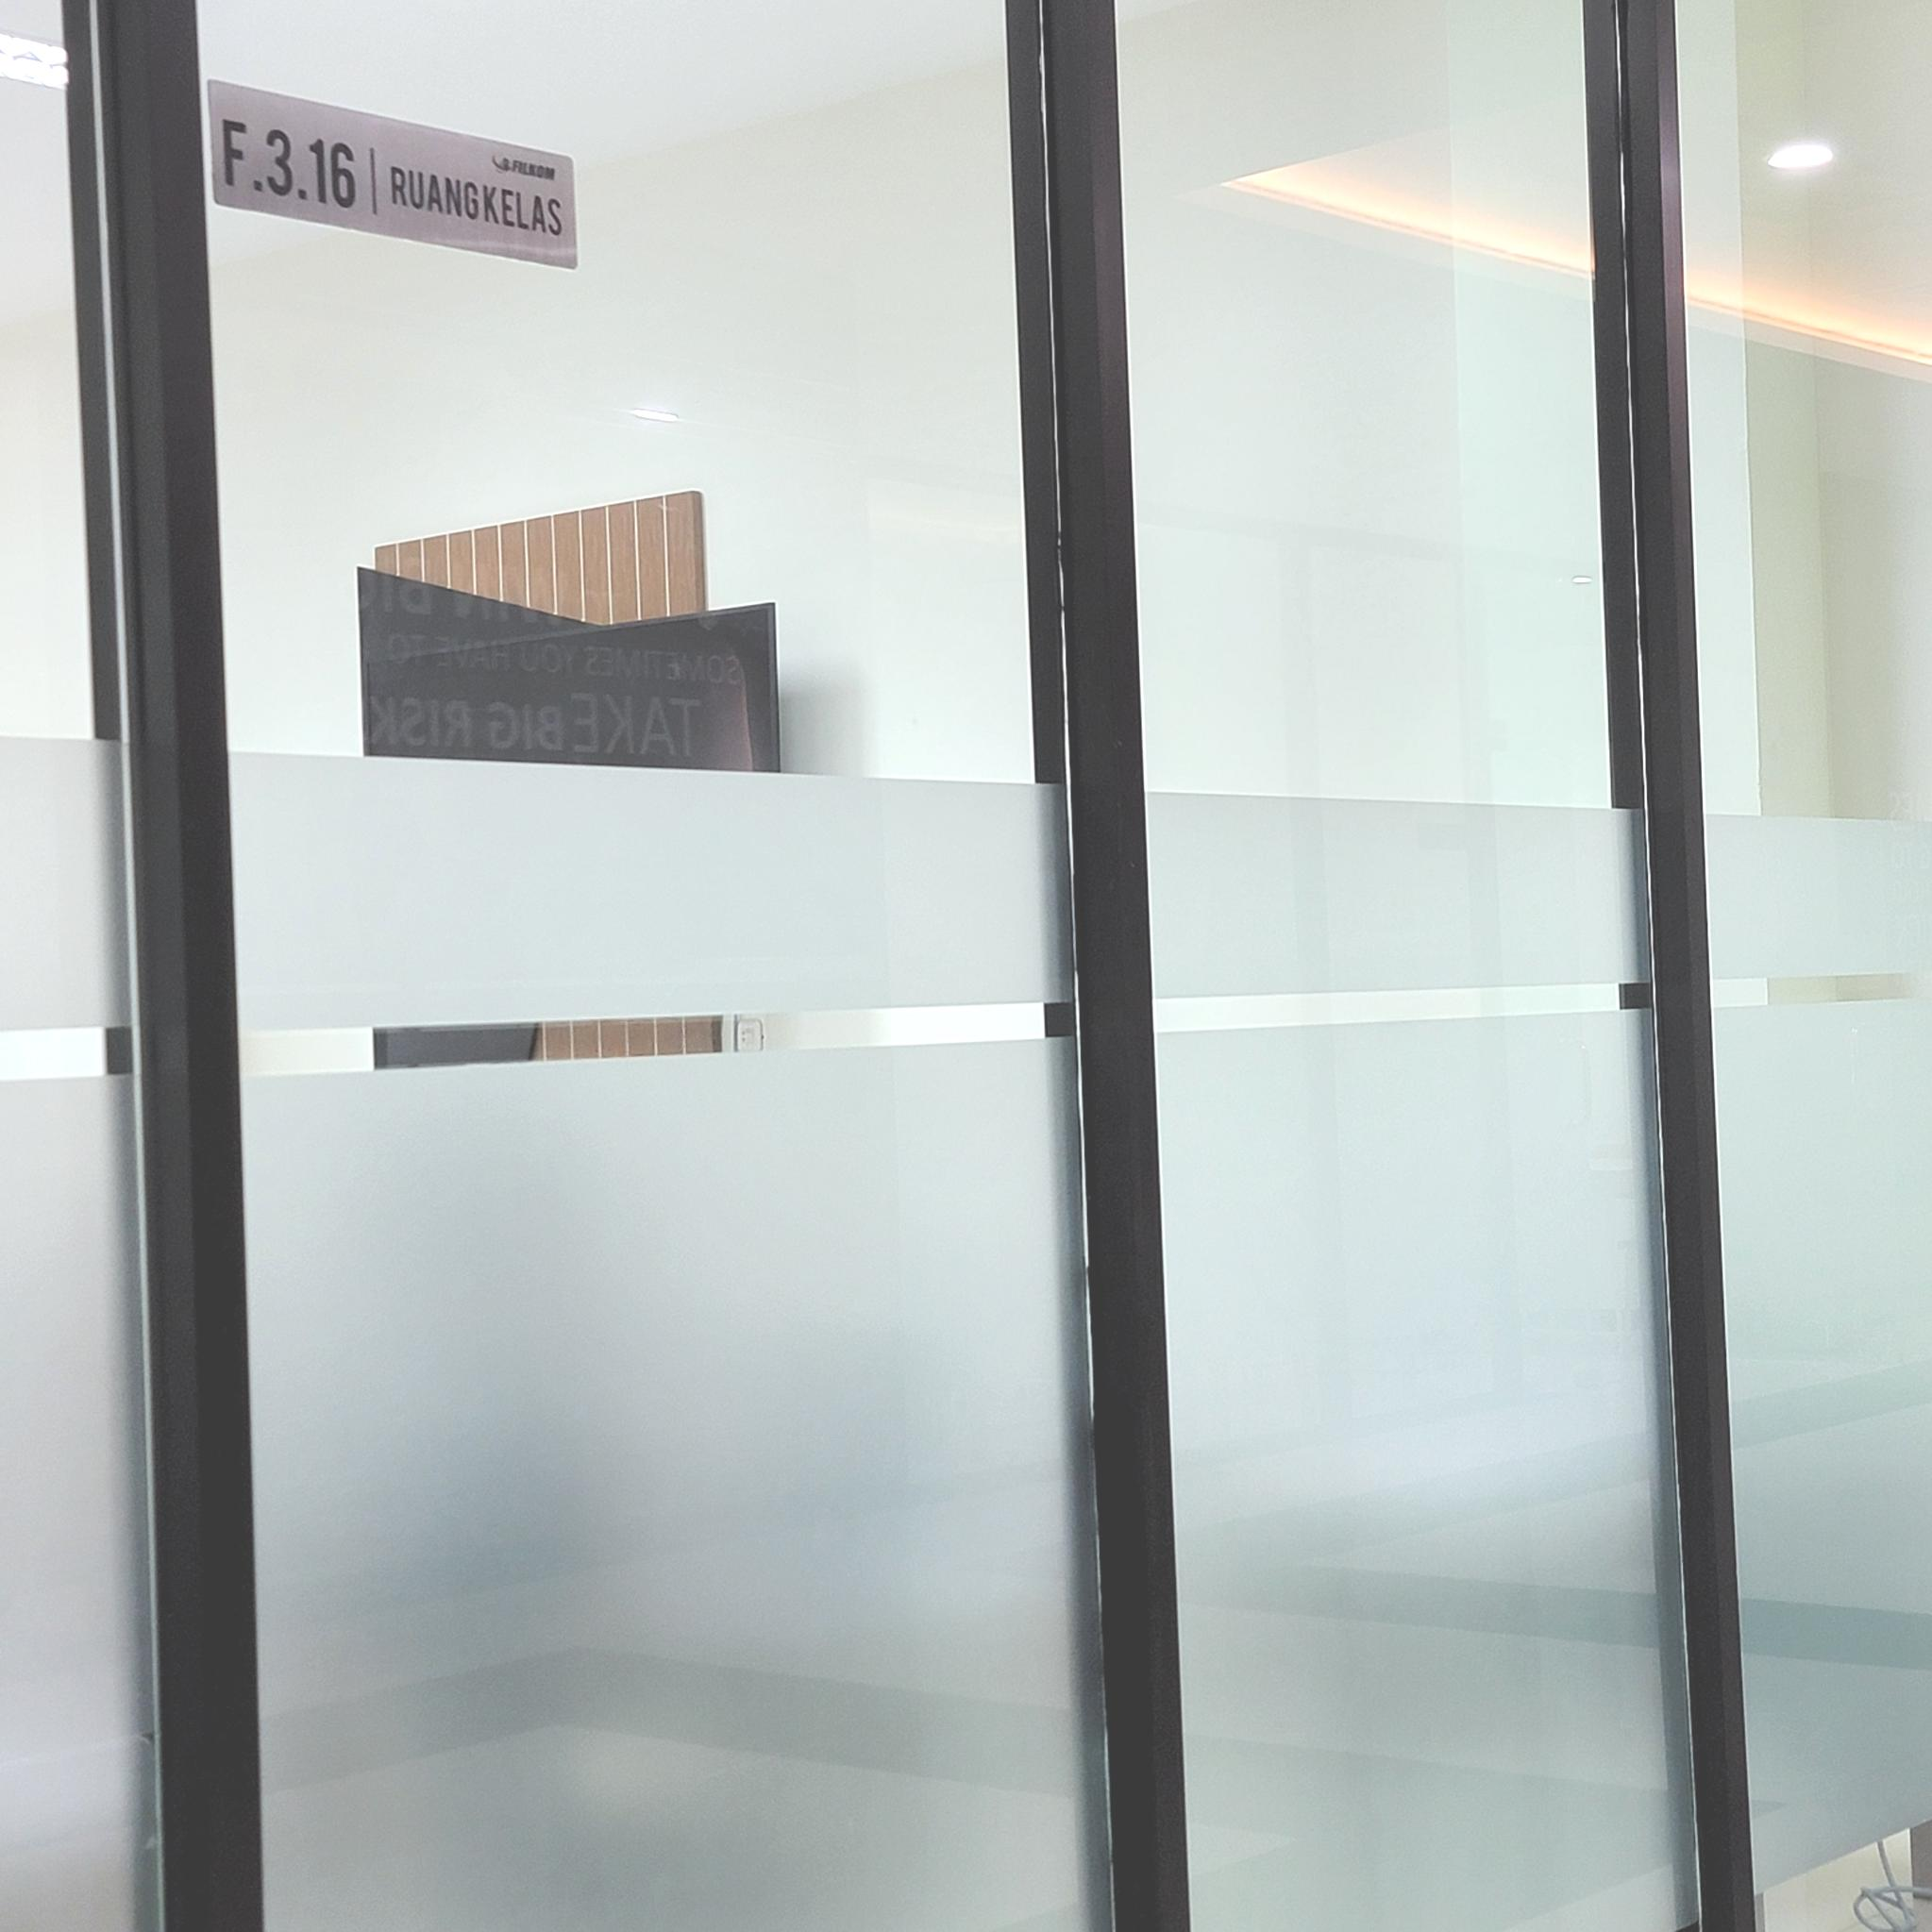plate: (209, 80, 579, 272)
